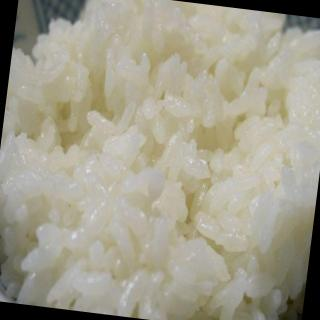Nasi: (1, 1, 320, 320)
